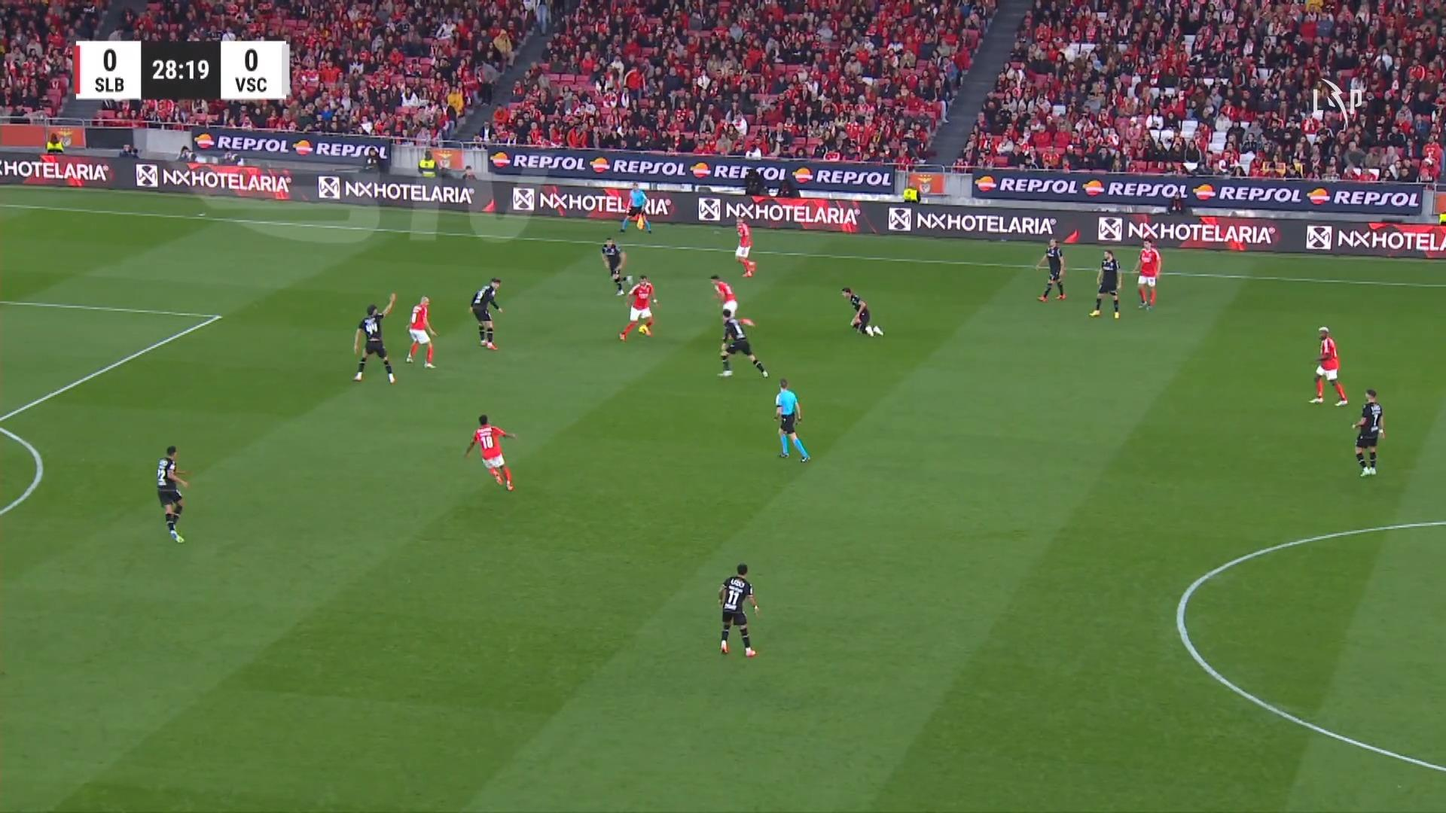ball: (638, 323, 649, 335), (744, 647, 755, 656), (720, 641, 728, 653)
player: (351, 291, 398, 384), (463, 413, 517, 492), (717, 562, 759, 656), (716, 308, 769, 378), (155, 445, 189, 543), (1308, 325, 1347, 406), (1351, 388, 1385, 476), (618, 274, 658, 341), (469, 276, 503, 349), (404, 295, 438, 368), (1088, 248, 1121, 318), (840, 286, 883, 337), (1132, 236, 1161, 309), (1035, 237, 1066, 302), (599, 236, 627, 296), (709, 273, 738, 322), (734, 215, 756, 278)
referee: (773, 377, 810, 463), (618, 181, 652, 233)
